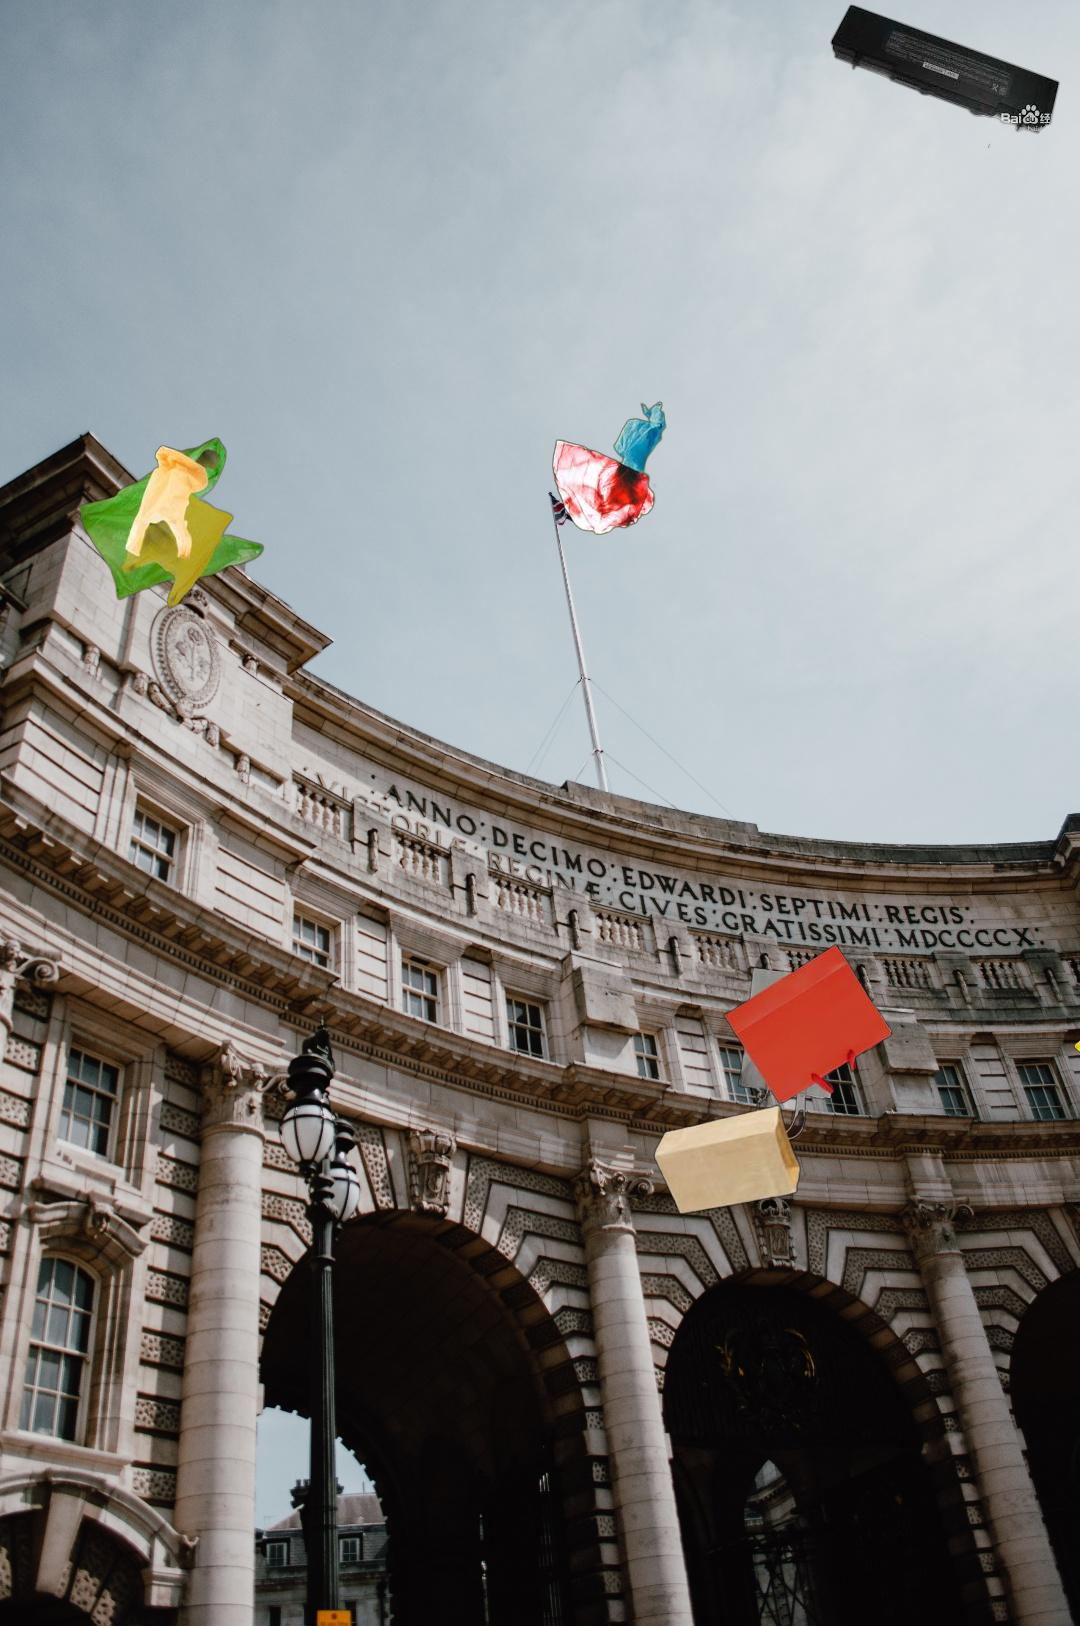battery: (828, 2, 1062, 136)
paper-bag: (626, 941, 893, 1237)
plastic-bag: (76, 435, 266, 611), (550, 399, 668, 538), (1073, 933, 1080, 1129)
